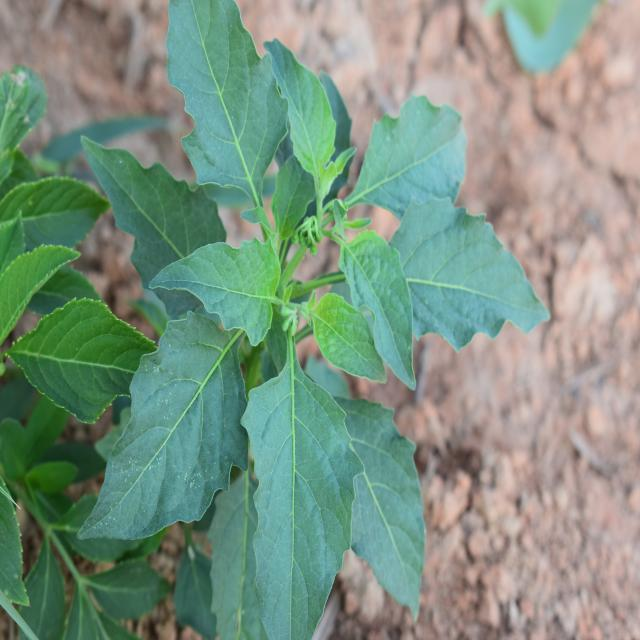Black_nightshade: (104, 32, 528, 604)
